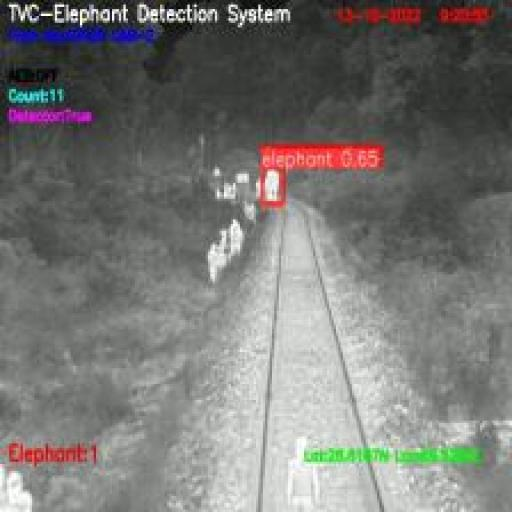Elephant: (263, 167, 283, 204)
